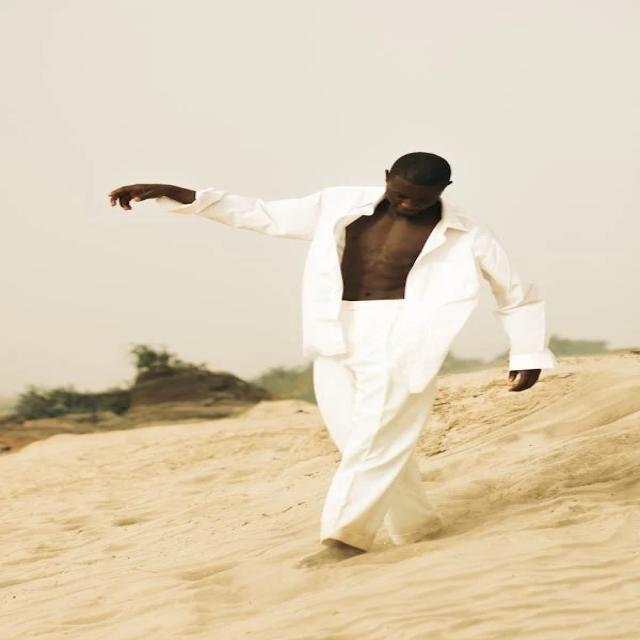Real human 2: (88, 144, 558, 570)
